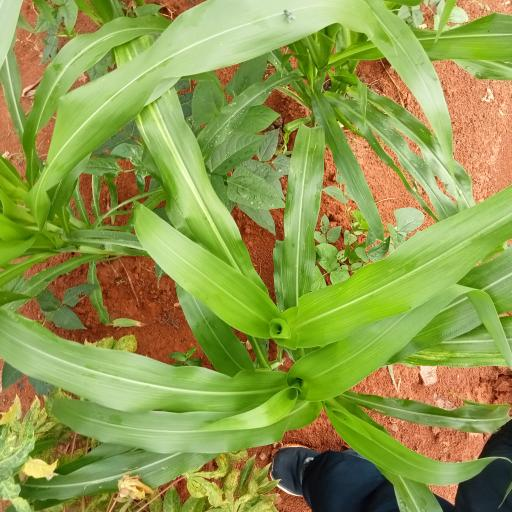Corn_Brown_Spots: (277, 194, 512, 347), (124, 200, 272, 345)
